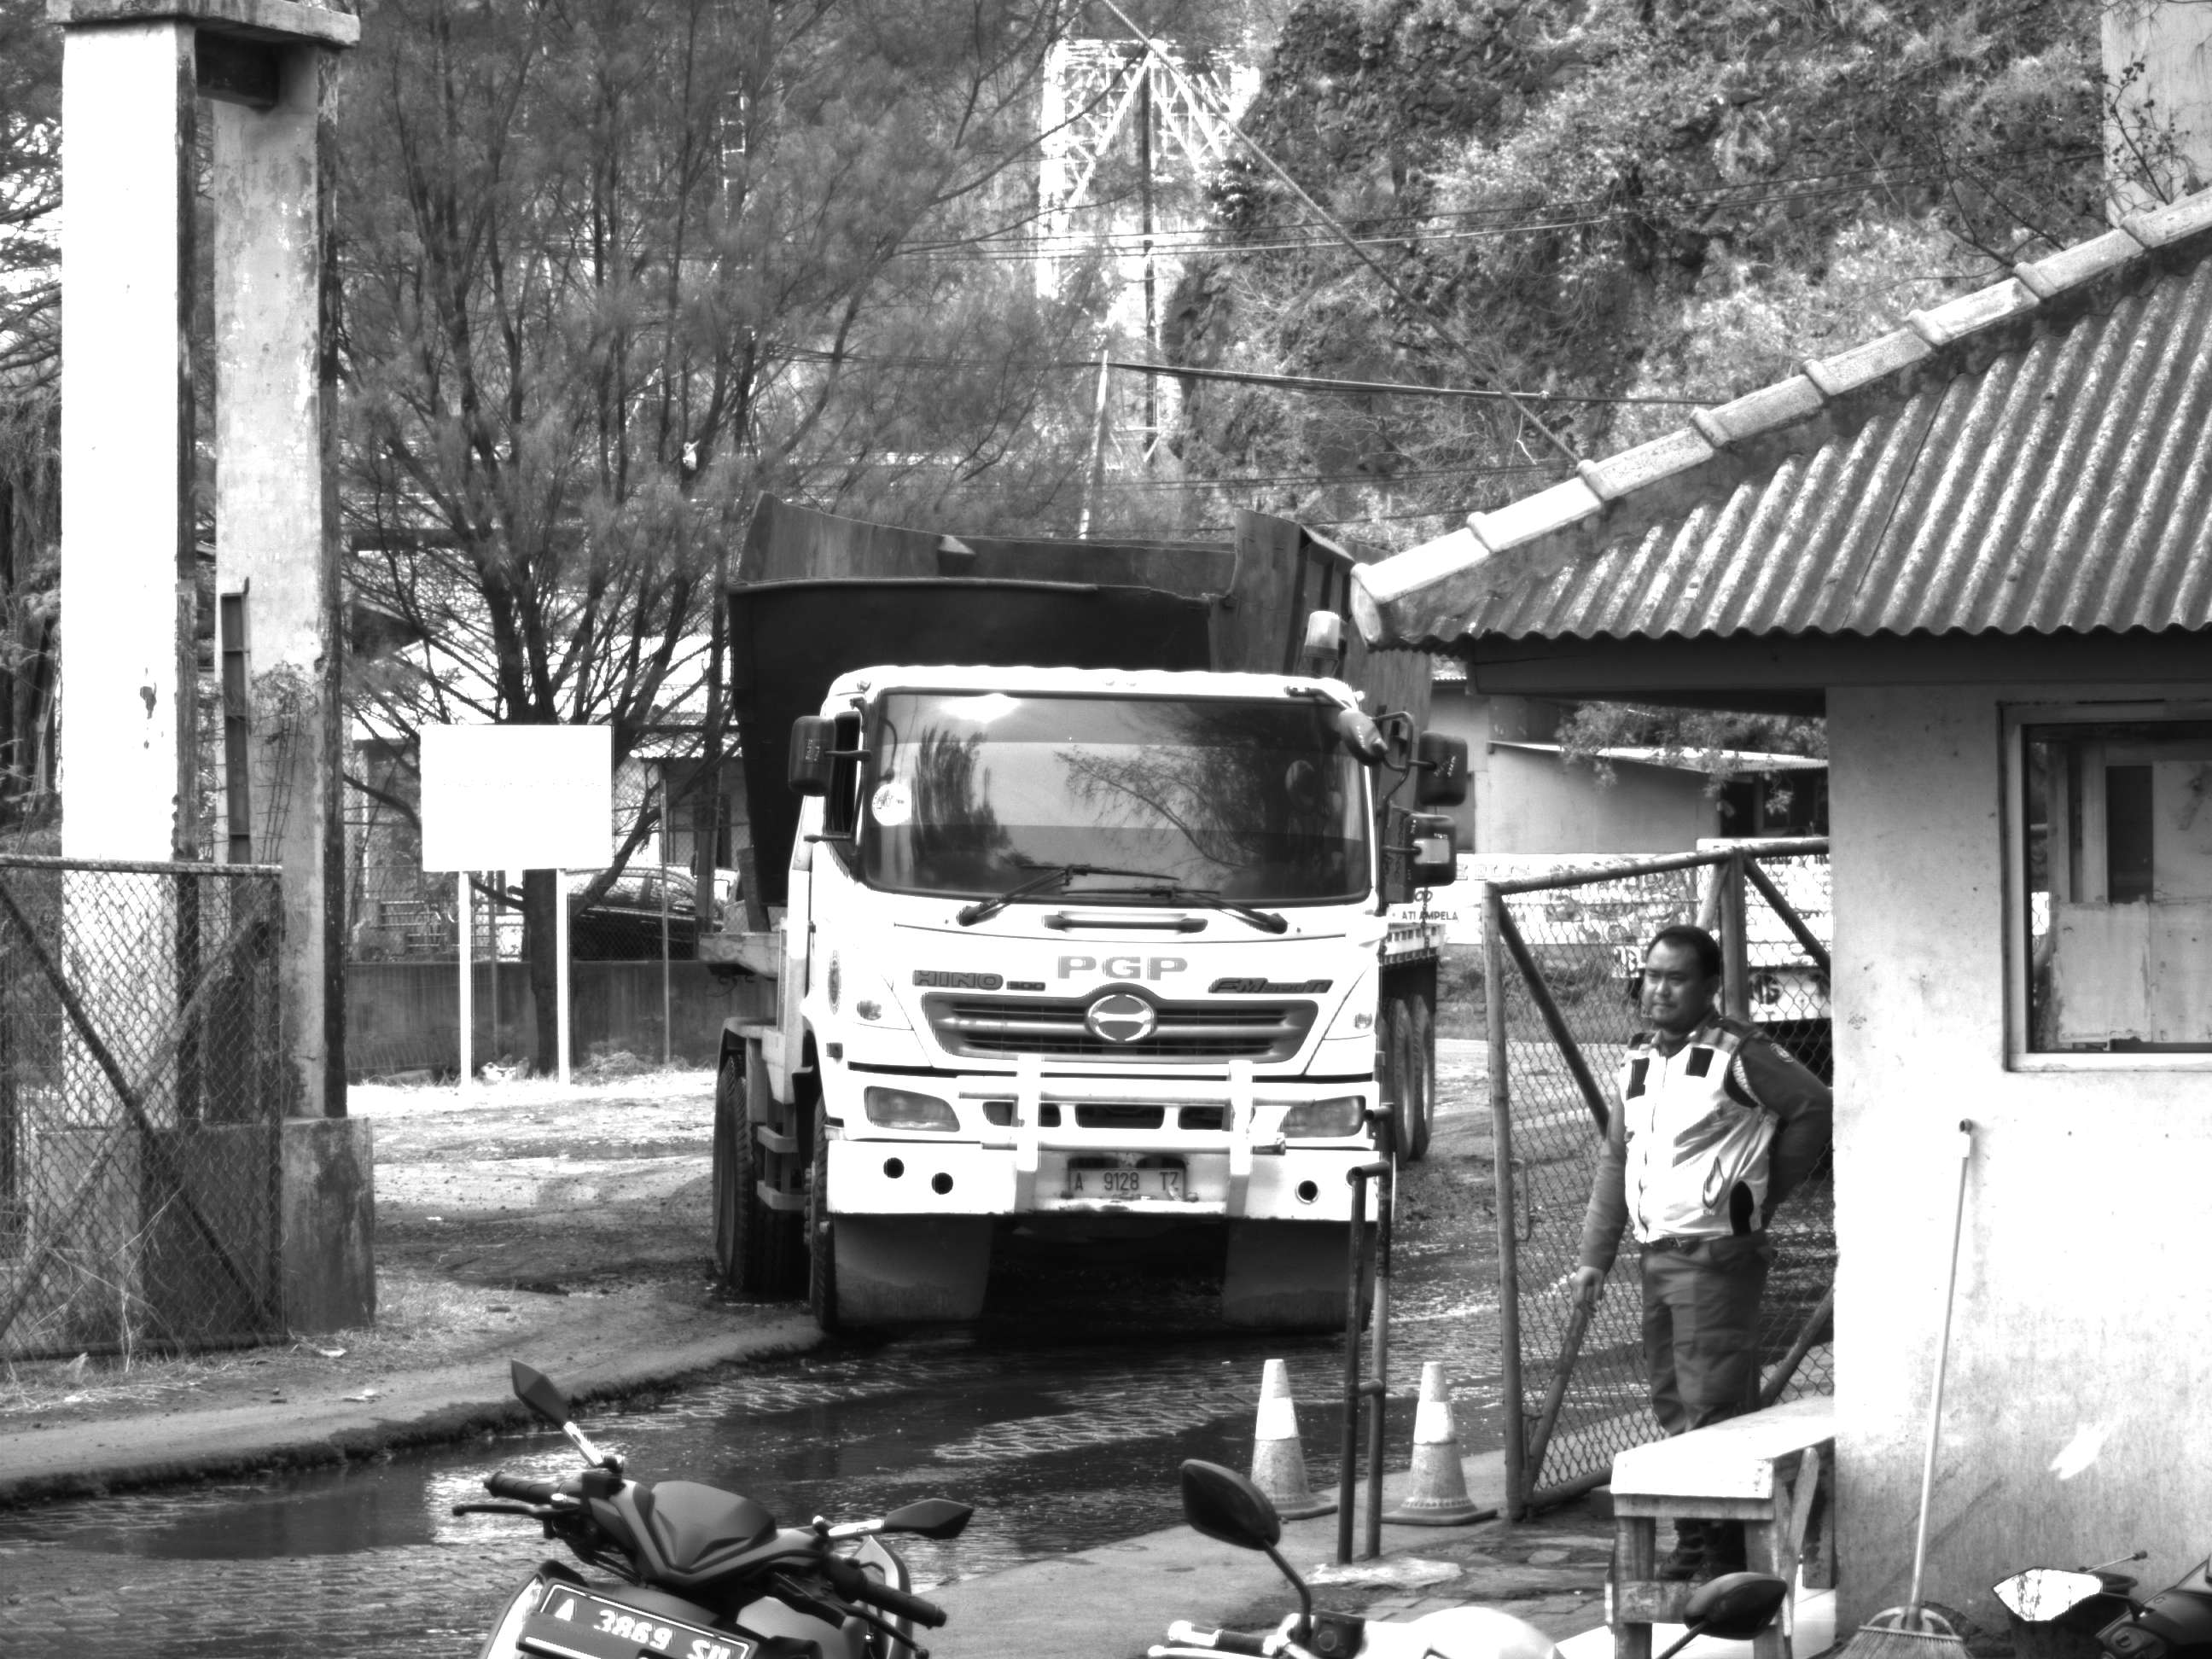day_truck_front: (800, 653, 1412, 1331)
plate: (1068, 1161, 1195, 1213)
